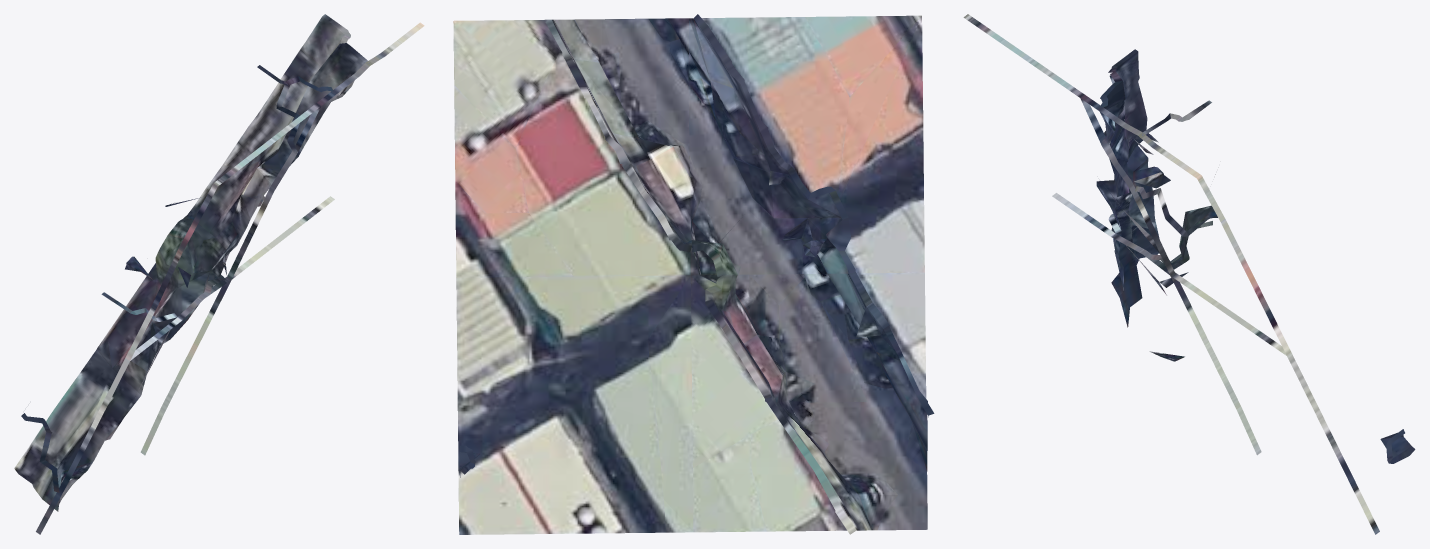
3 views of the same model, side by side, from view 1: azimuth 30°, elevation 25°; view 2: azimuth 150°, elevation 25°; view 3: azimuth 270°, elevation 25° (orthographic). The views are drawn at different scales.
Bounding box in the file's own units: 39.32 × 37.31 × 35.05.
Materials: 1 (1 with a texture image).
